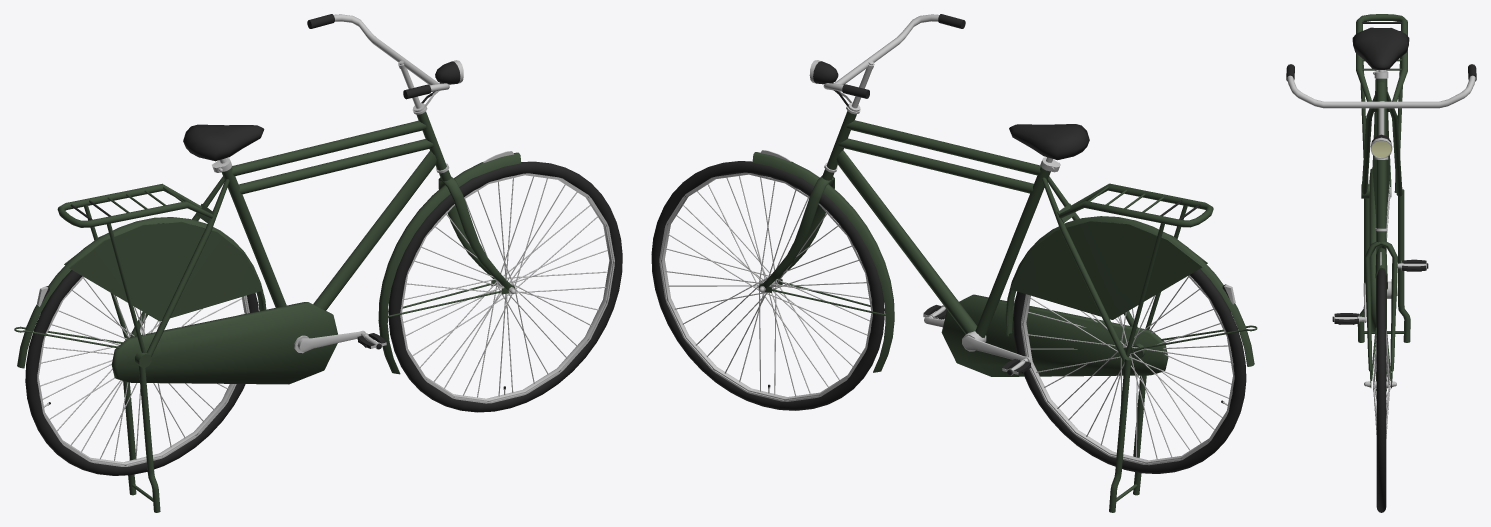
Rendered from stm_bike.FBX.
3 views of the same model, side by side, from view 1: azimuth 30°, elevation 25°; view 2: azimuth 150°, elevation 25°; view 3: azimuth 270°, elevation 25° (orthographic). The views are drawn at different scales.
Visible parts, largest first — view 1: Torus004; view 2: Torus004; view 3: Torus004.
Boxes of the visible parts, x1=… form: Torus004: x1=14, y1=14, x2=622, y2=512; Torus004: x1=651, y1=14, x2=1257, y2=512; Torus004: x1=1286, y1=14, x2=1476, y2=512.
Size of the model in its own units: 132 by 82.43 by 37.87.
